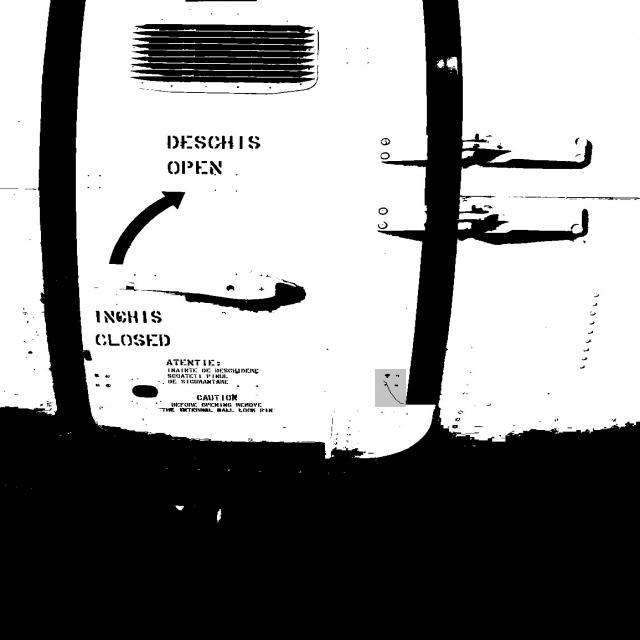crack: (376, 370, 407, 408)
